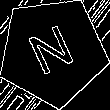N_SE: (25, 20, 81, 83)
